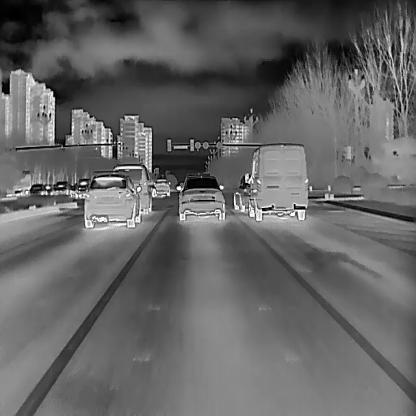car: (243, 141, 308, 221), (82, 172, 142, 229), (174, 173, 226, 220), (112, 162, 153, 213), (232, 170, 253, 212), (151, 177, 171, 197), (76, 177, 92, 199), (51, 180, 72, 195), (26, 182, 47, 196)
